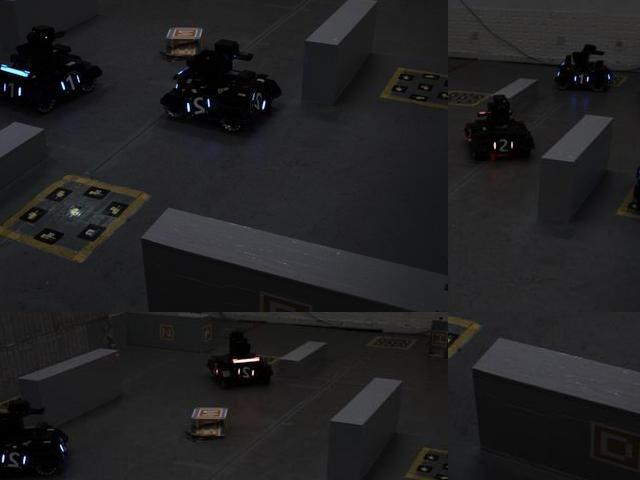armor: (182, 90, 219, 122), (0, 446, 33, 472), (57, 69, 83, 97), (0, 77, 25, 105), (250, 88, 272, 116), (491, 137, 517, 154), (237, 364, 258, 382), (571, 70, 592, 86)
